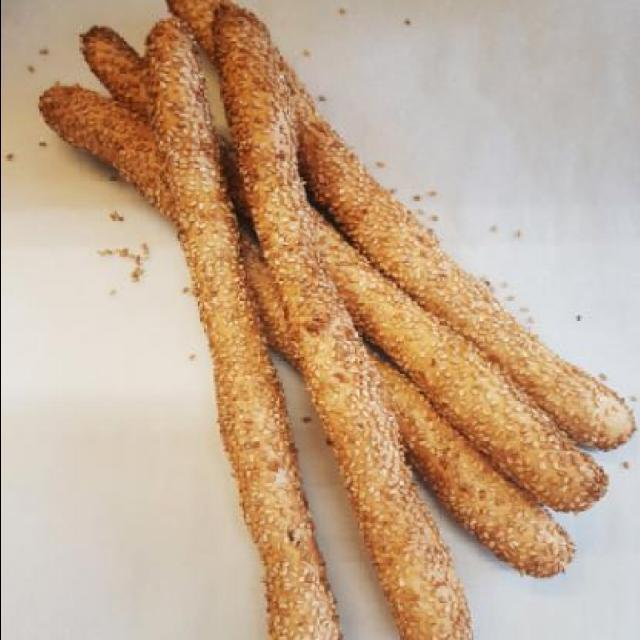Grissini: (36, 19, 622, 636)
